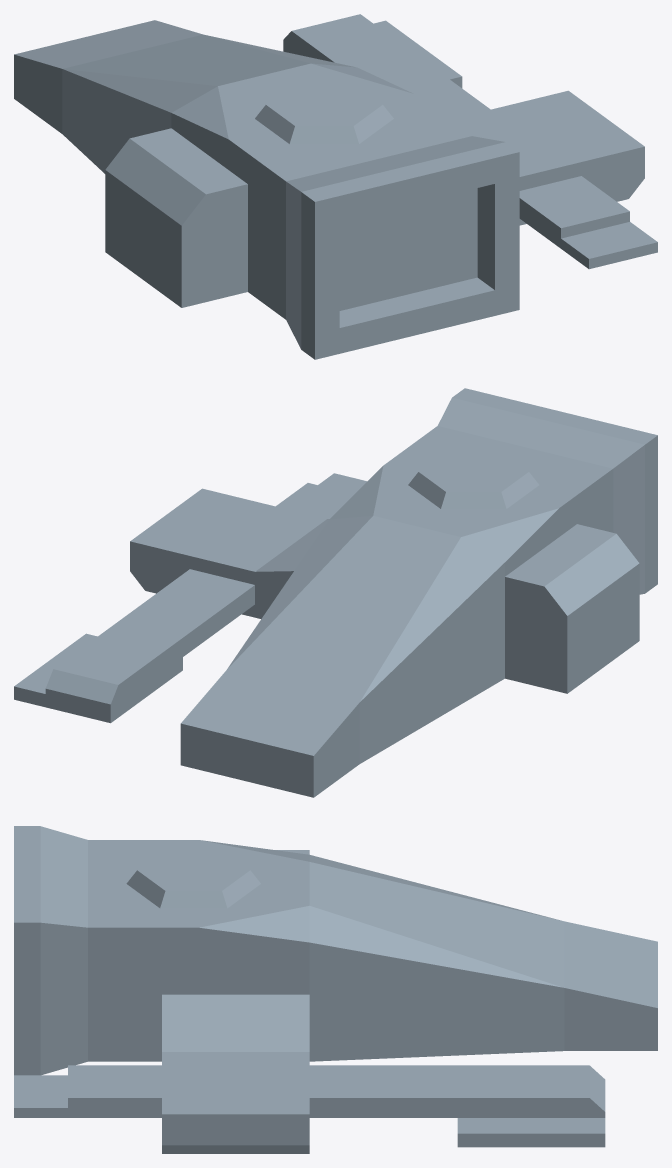
Rendered from spacecraft5.glb.
The picture shows the model from 3 angles, top to bottom: view 1: azimuth 30°, elevation 25°; view 2: azimuth 150°, elevation 25°; view 3: azimuth 270°, elevation 25°; orthographic projection. The views are drawn at different scales.
Parts seen in each view (by area): view 1: spaceCraft5_8angles; view 2: spaceCraft5_8angles; view 3: spaceCraft5_8angles.
Part boxes in pixels (left/top/right/bottom): spaceCraft5_8angles: left=14, top=14, right=657, bottom=359; spaceCraft5_8angles: left=14, top=388, right=657, bottom=797; spaceCraft5_8angles: left=14, top=826, right=657, bottom=1153.
Bounding box in the file's own units: 13.82 × 4.63 × 17.2.
